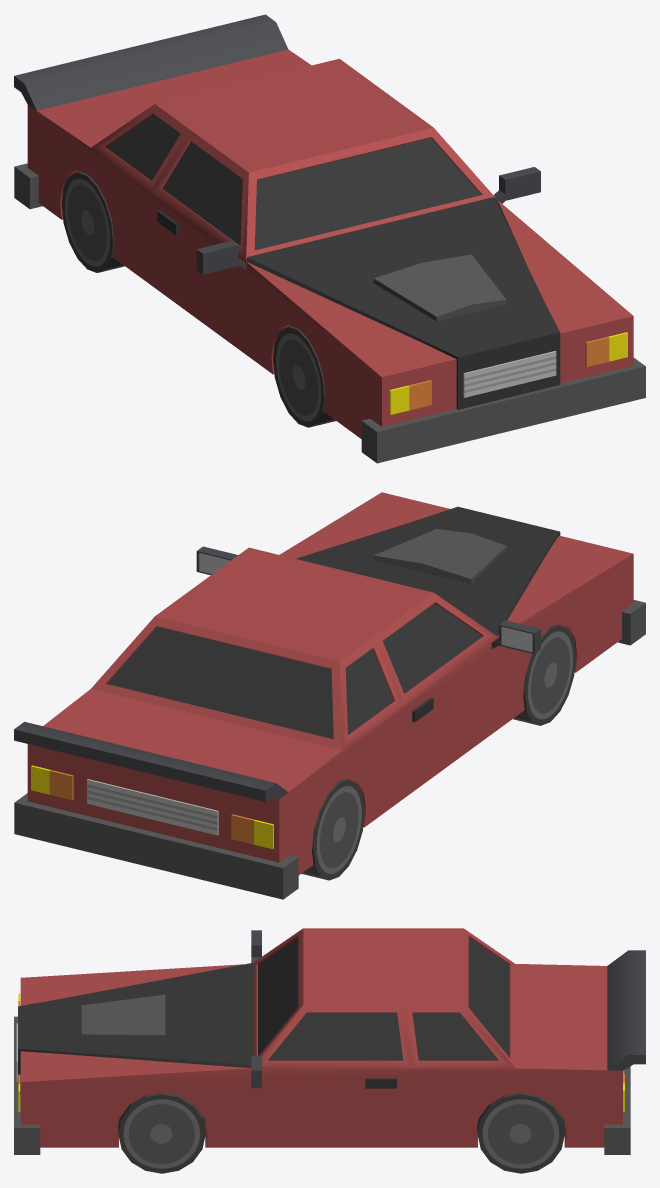
The model's file is sportsCar01_color01.fbx.
3 renders of one model, top to bottom at view 1: azimuth 30°, elevation 25°; view 2: azimuth 150°, elevation 25°; view 3: azimuth 270°, elevation 25°, orthographic. The views are drawn at different scales.
Parts seen in each view (by area): view 1: Cube.200, Cube.299, Cube.388; view 2: Cube.200, Cube.388, Cube.299; view 3: Cube.200, Cube.386, Cube.387.
Part boxes in pixels (x1,y1,x2,y2): Cube.200: (14,14,645,463); Cube.299: (273,326,335,427); Cube.388: (61,171,124,272); Cube.200: (14,492,645,899); Cube.388: (301,779,364,880); Cube.299: (513,624,575,725); Cube.200: (14,928,645,1154); Cube.386: (477,1092,564,1173); Cube.387: (118,1092,205,1173).
Bounding box in the file's own units: 269 × 138 × 512.
